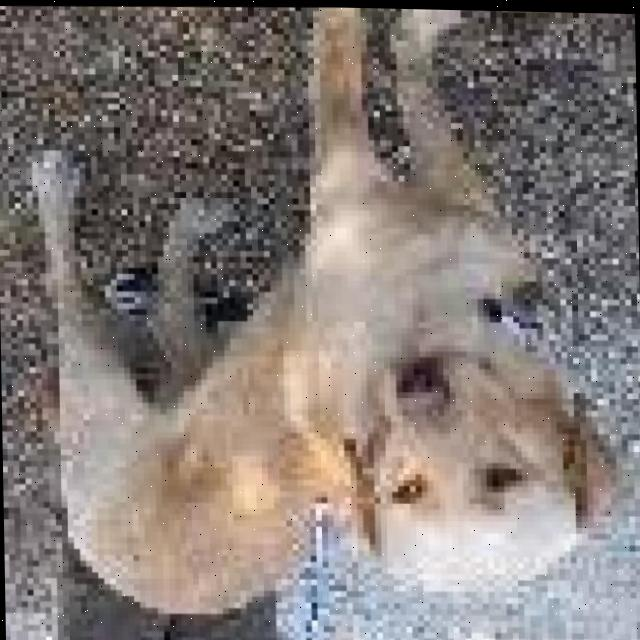dogs: (23, 0, 586, 640)
